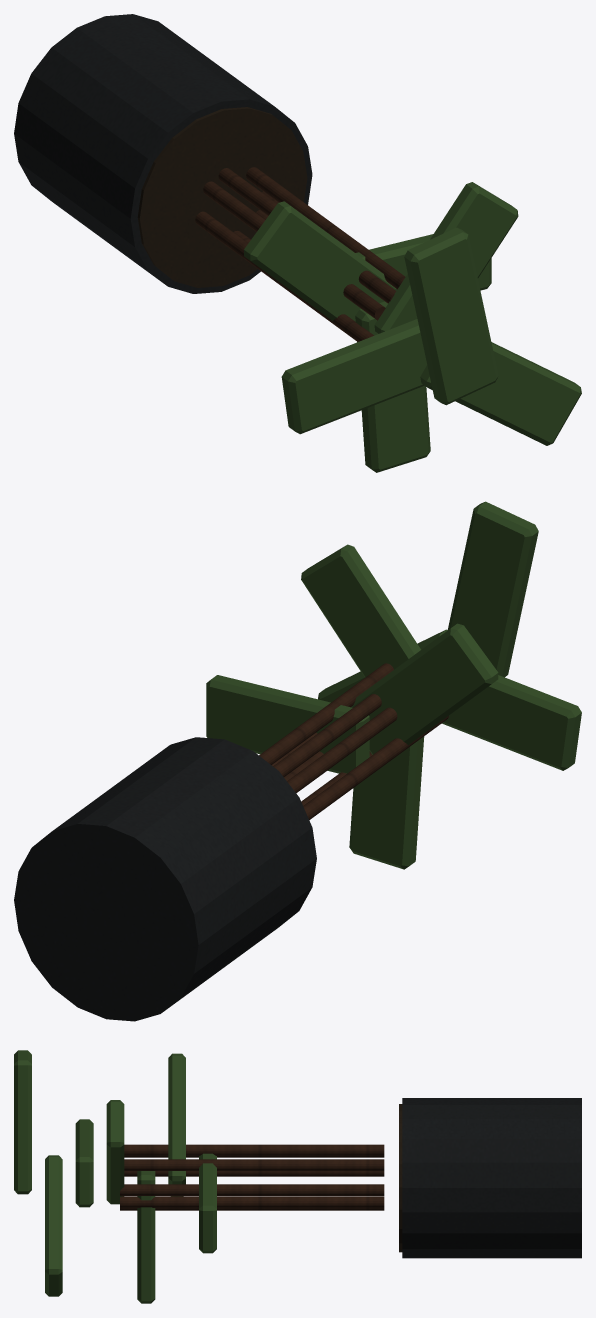
File: living_planter.obj
3 renders of one model, top to bottom at view 1: azimuth 30°, elevation 25°; view 2: azimuth 150°, elevation 25°; view 3: azimuth 270°, elevation 25°, orthographic. The views are drawn at different scales.
Parts seen in each view (by area): view 1: living_planter_foliage, living_planter_charcoal, living_planter_soil, living_planter_walnut; view 2: living_planter_charcoal, living_planter_foliage, living_planter_walnut; view 3: living_planter_charcoal, living_planter_foliage, living_planter_walnut, living_planter_soil.
Part boxes in pixels (bbox=[...]): living_planter_foliage: bbox=[244, 182, 581, 472]; living_planter_charcoal: bbox=[14, 14, 312, 293]; living_planter_soil: bbox=[137, 107, 307, 287]; living_planter_walnut: bbox=[195, 167, 405, 341]; living_planter_charcoal: bbox=[14, 737, 316, 1021]; living_planter_foliage: bbox=[206, 501, 581, 869]; living_planter_walnut: bbox=[259, 663, 448, 819]; living_planter_charcoal: bbox=[402, 1098, 581, 1258]; living_planter_foliage: bbox=[14, 1050, 216, 1303]; living_planter_walnut: bbox=[120, 1144, 384, 1210]; living_planter_soil: bbox=[399, 1104, 402, 1252].
Bounding box in the file's own units: 28.08 × 28.17 × 63.18.
Materials: 4 (4 with a texture image).
